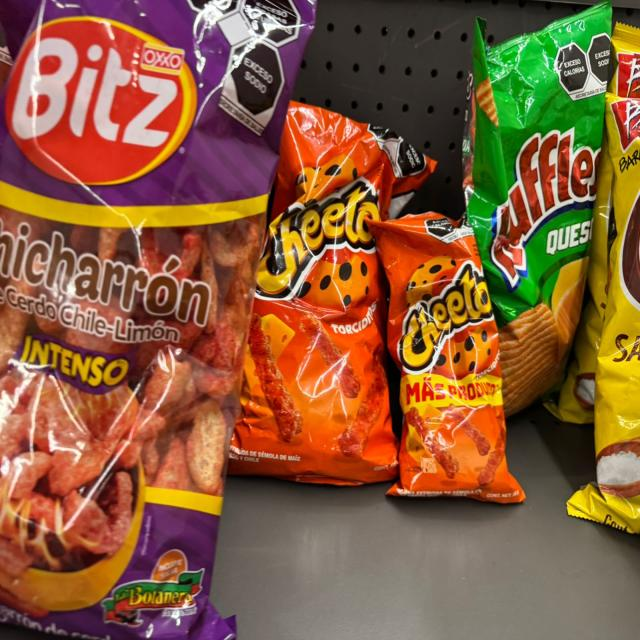CHEETOS TORCIDITOS 240GR: (374, 212, 525, 505)
Cheetos grandes: (231, 103, 433, 487)
RUFFLES QUESO 185GR: (463, 0, 610, 413)
chicharrones de cerdo intenso: (2, 0, 318, 639)
